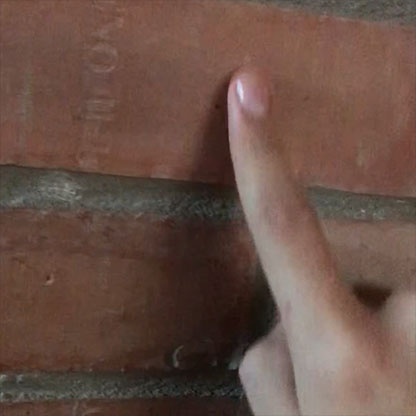fingertip: (219, 62, 295, 128)
